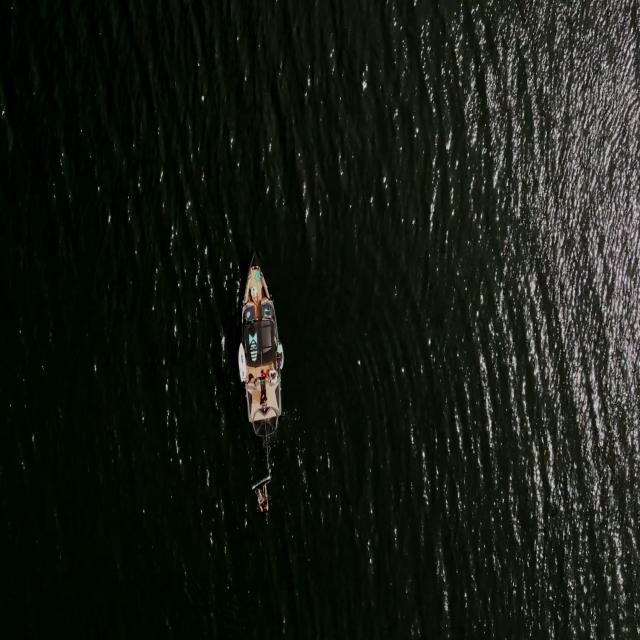ship: (245, 257, 278, 440), (235, 344, 248, 384)
